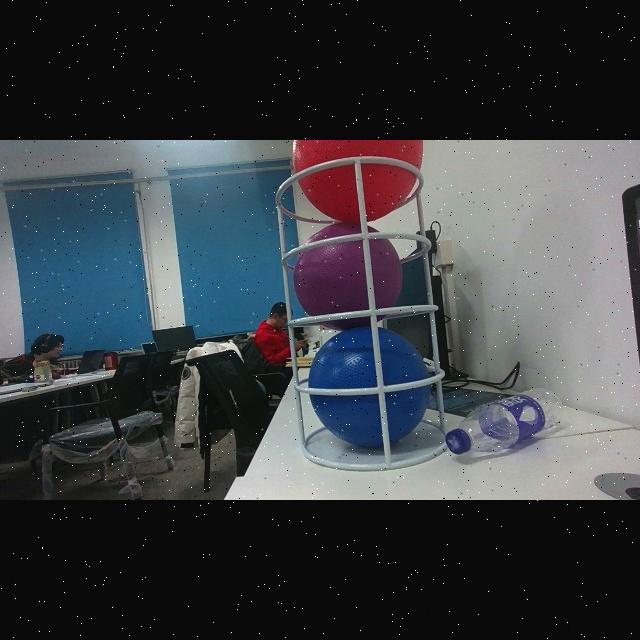B: (308, 328, 430, 448)
P: (295, 220, 403, 328)
R: (294, 141, 424, 223)
S: (264, 156, 453, 472)
